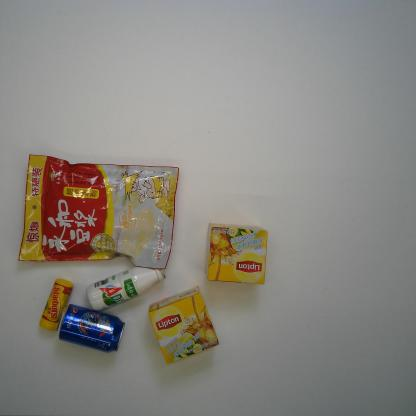Candy: (39, 278, 74, 332)
Drink: (56, 304, 126, 354)
Instant Drink: (18, 153, 179, 271), (147, 286, 219, 365), (204, 222, 268, 285)
Milk: (86, 263, 166, 311)
